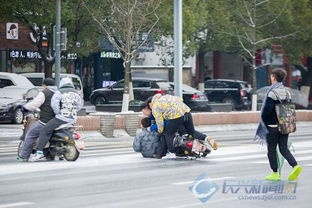falling: (133, 89, 217, 157)
